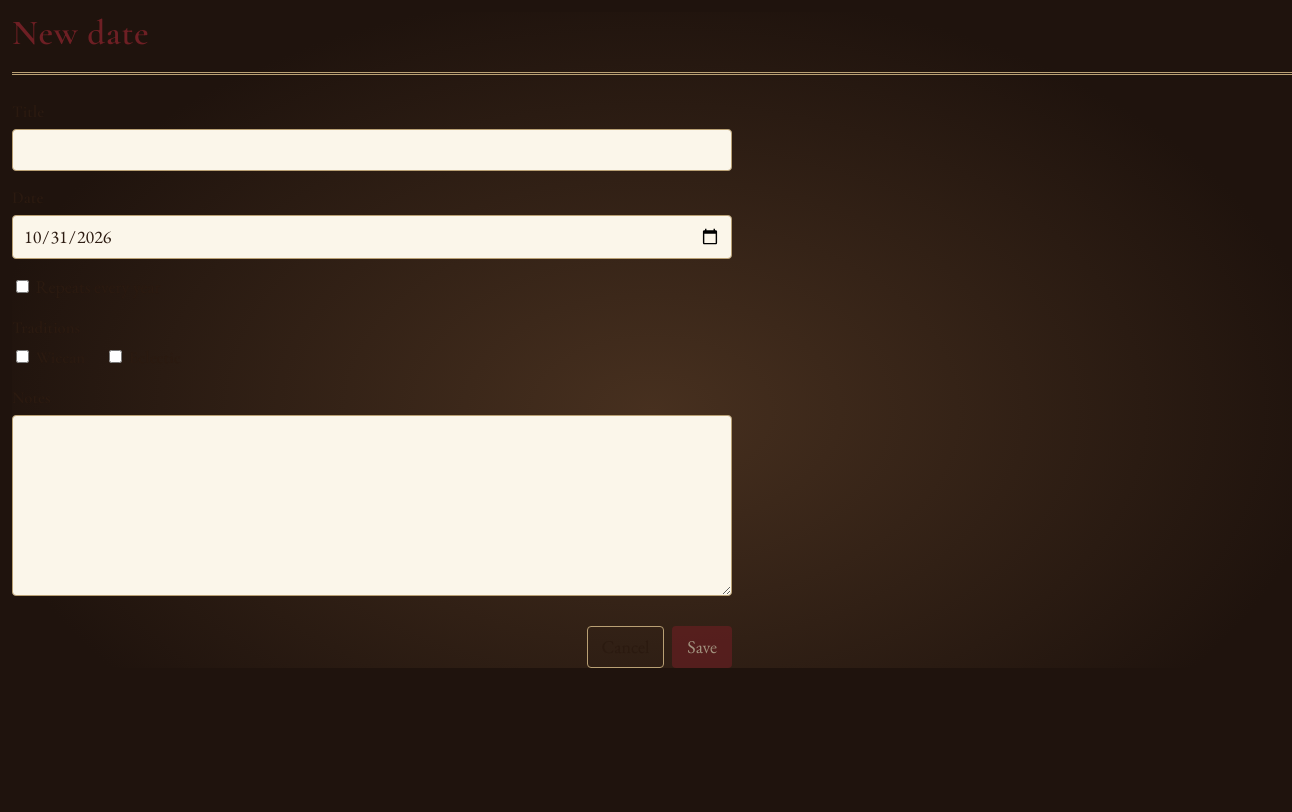
Test case: Own date form › shows the field errors from a 400
Type "x" into the field labelled "Title" at (372, 150), box [12,129,732,171]
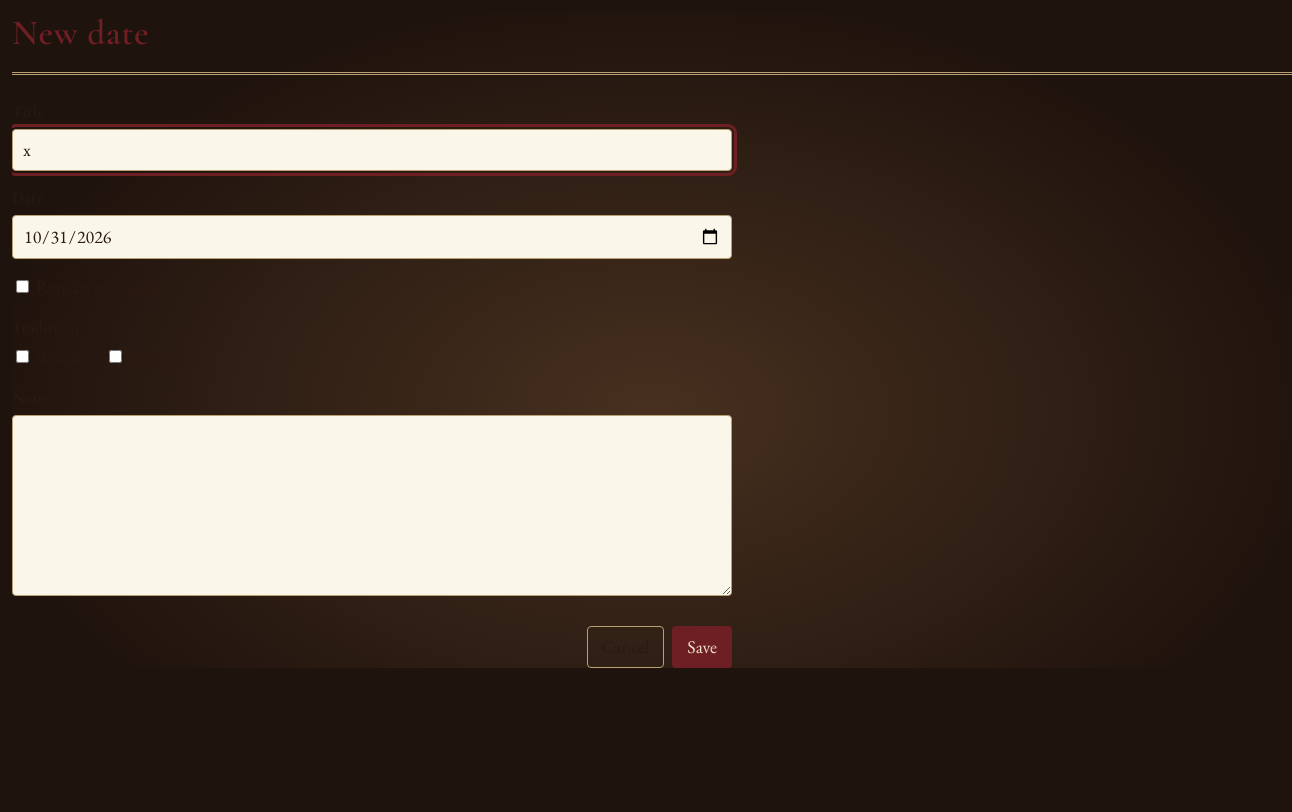
Click the button "Save" at (702, 647), box [672,626,732,668]
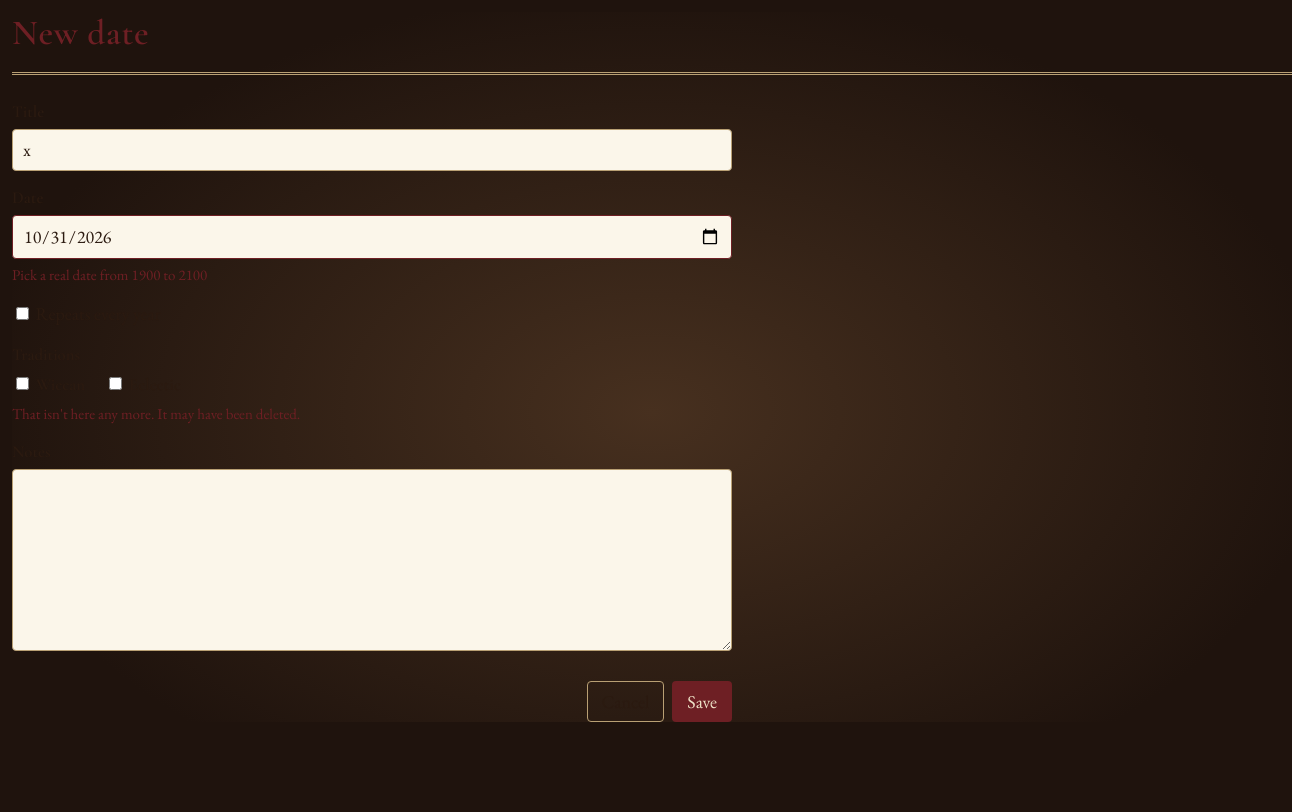
Check: the text "Pick a real date from 1900 to 2100" is shown, box [12,265,207,284]
